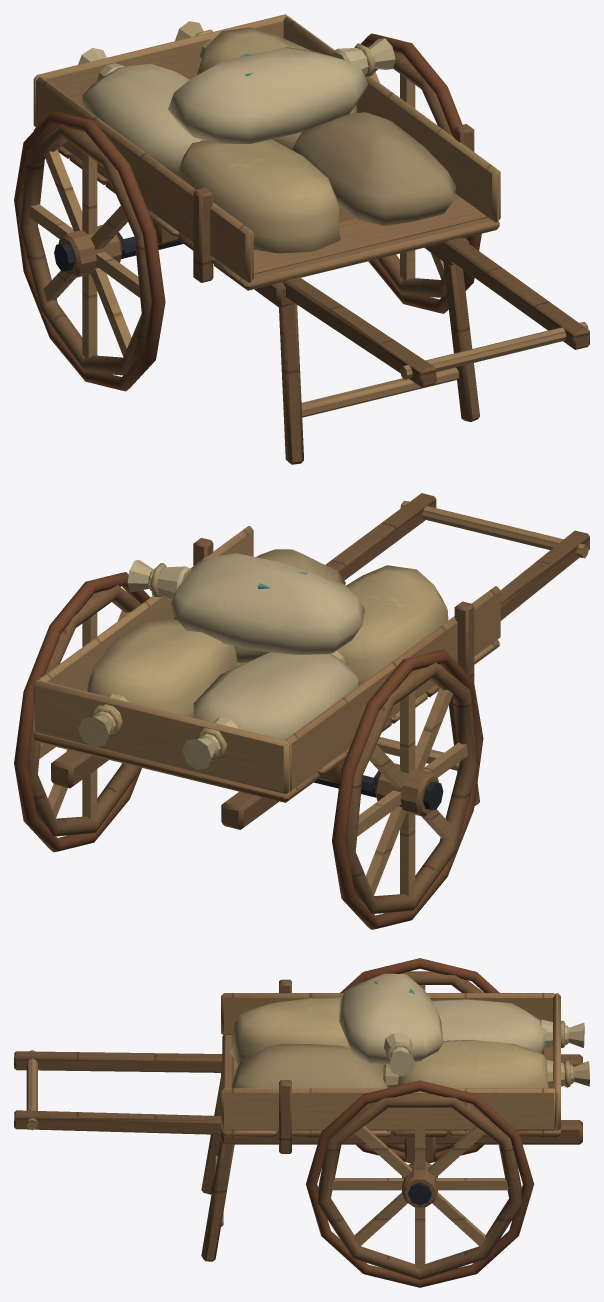
The model's file is seed_sacks_cart.glb.
3 renders of one model, top to bottom at view 1: azimuth 30°, elevation 25°; view 2: azimuth 150°, elevation 25°; view 3: azimuth 270°, elevation 25°, orthographic. The views are drawn at different scales.
Visible parts, largest first — view 1: seed_sacks_cart; view 2: seed_sacks_cart; view 3: seed_sacks_cart.
Boxes of the visible parts, x1,y1,x2,y2 form: seed_sacks_cart: (14,14,589,464); seed_sacks_cart: (14,493,589,929); seed_sacks_cart: (14,958,589,1287).
Bounding box in the file's own units: 1.32 × 1.01 × 2.23.
16 materials, 16 textured.
